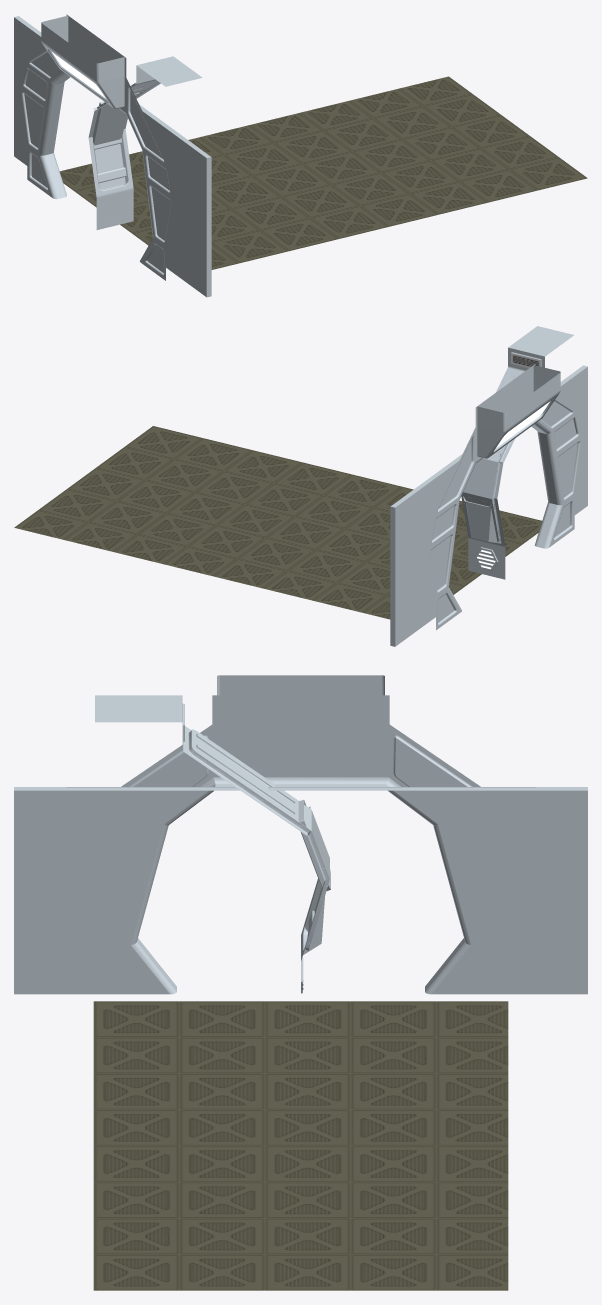
File: hangar_corridor.gltf
3 views of the same model, one above another, from view 1: azimuth 30°, elevation 25°; view 2: azimuth 150°, elevation 25°; view 3: azimuth 270°, elevation 25° (orthographic). The views are drawn at different scales.
Parts seen in each view (by area): view 1: corridor_floor, corridor_door_frame, corridor_segment_a, corridor_segment_b; view 2: corridor_floor, corridor_door_frame, corridor_segment_a, corridor_segment_b; view 3: corridor_floor, corridor_door_frame, corridor_segment_a, corridor_segment_b.
Part boxes in pixels (box(x1,y1,x2,y2)): corridor_floor: box(59, 76, 587, 269); corridor_door_frame: box(14, 14, 211, 297); corridor_segment_a: box(88, 56, 202, 229); corridor_segment_b: box(88, 66, 159, 229); corridor_floor: box(14, 426, 541, 619); corridor_door_frame: box(390, 364, 587, 646); corridor_segment_a: box(461, 326, 573, 579); corridor_segment_b: box(463, 348, 544, 578); corridor_floor: box(93, 1001, 508, 1290); corridor_door_frame: box(14, 675, 587, 994); corridor_segment_a: box(95, 695, 329, 961); corridor_segment_b: box(182, 703, 330, 993).
Size of the model in its own units: 48.49 by 20 by 36.02.
Materials: 4 (2 with a texture image).
